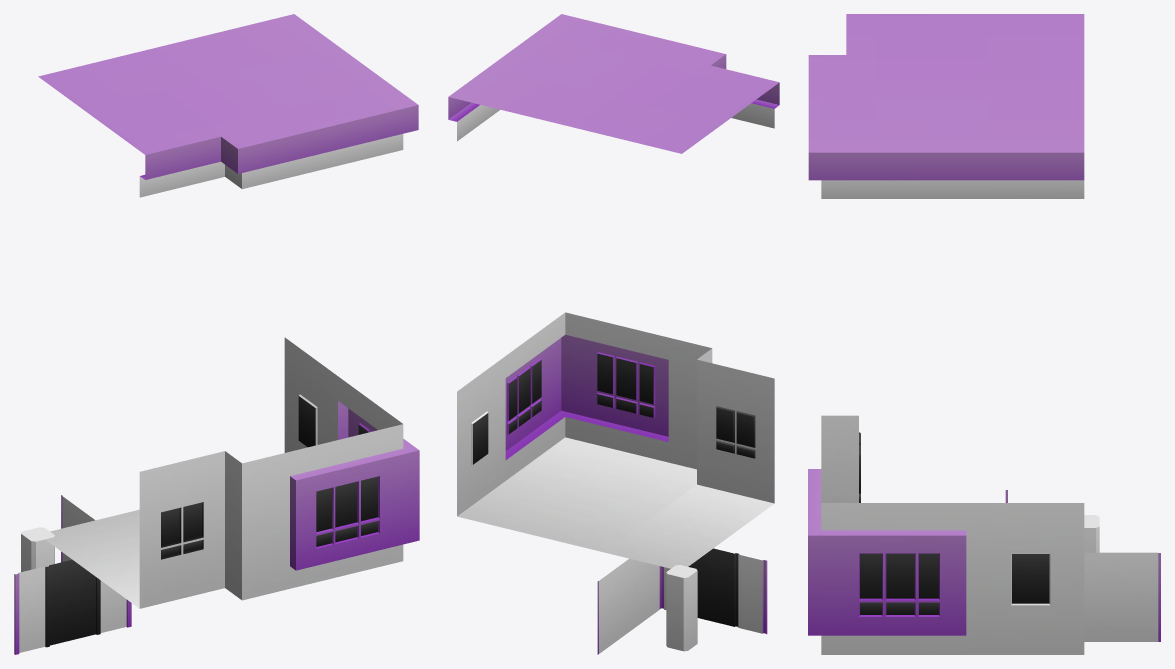
The model's file is buildingPurple.fbx.
3 views of the same model, side by side, from view 1: azimuth 30°, elevation 25°; view 2: azimuth 150°, elevation 25°; view 3: azimuth 270°, elevation 25° (orthographic). The views are drawn at different scales.
Visible parts, largest first — view 1: buildingTop, roomWall, middleWindowWall, doorWall, corridorWall, roomSideWall1, buildingPillar, doorsideWall; view 2: roomWall, buildingTop, middleWindowWall, roomSideWall1, corridorWall, doorWall, doorsideWall, buildingPillar; view 3: buildingTop, roomSideWall1, corridorWall, doorsideWall, middleWindowWall, roomWall, buildingPillar.
Boxes of the visible parts, box(x1,y1,x2,y2) form: buildingTop: box(38, 14, 418, 197); roomWall: box(123, 424, 419, 600); middleWindowWall: box(45, 451, 241, 608); doorWall: box(14, 559, 131, 654); corridorWall: box(284, 337, 337, 452); roomSideWall1: box(338, 376, 418, 450); buildingPillar: box(21, 527, 54, 571); doorsideWall: box(61, 495, 94, 562); roomWall: box(457, 312, 711, 552); buildingTop: box(448, 14, 779, 153); middleWindowWall: box(604, 348, 774, 568); roomSideWall1: box(505, 312, 565, 480); corridorWall: box(457, 356, 505, 516); doorWall: box(660, 548, 767, 634); doorsideWall: box(597, 558, 660, 654); buildingPillar: box(666, 565, 697, 651); buildingTop: box(808, 14, 1084, 198); roomSideWall1: box(808, 503, 966, 654); corridorWall: box(966, 503, 1084, 654); doorsideWall: box(1084, 552, 1160, 641); middleWindowWall: box(821, 415, 860, 502); roomWall: box(808, 469, 821, 535); buildingPillar: box(1084, 515, 1099, 552).
Size of the model in its own units: 922 by 1506 by 807.
1 material, 1 textured.
